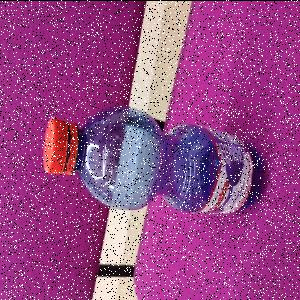Plastic-bottle: (43, 106, 268, 217)
